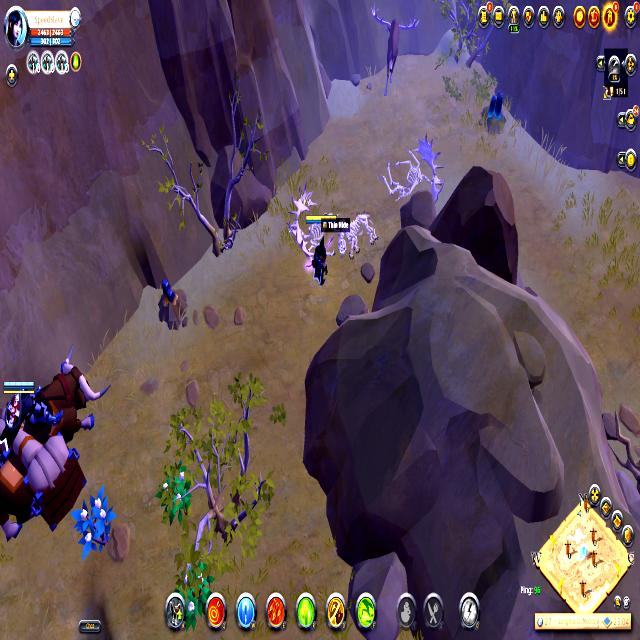hide: (72, 483, 116, 564), (172, 555, 212, 622), (157, 458, 193, 530)
ore: (371, 4, 422, 98)
player: (153, 270, 192, 337), (478, 80, 510, 142)
red: (1, 376, 34, 455), (304, 216, 334, 288)
